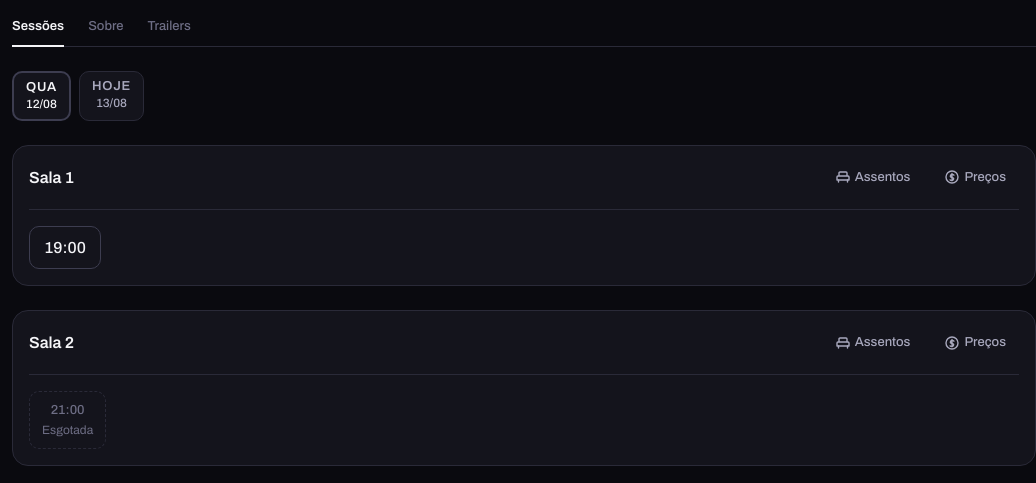
Scenario: seções Sessões, Sobre e Trailers › sem trailer, a seção explica e continua visível
Click the tab "Trailers". click: (169,27)
box: [148,8,191,47]
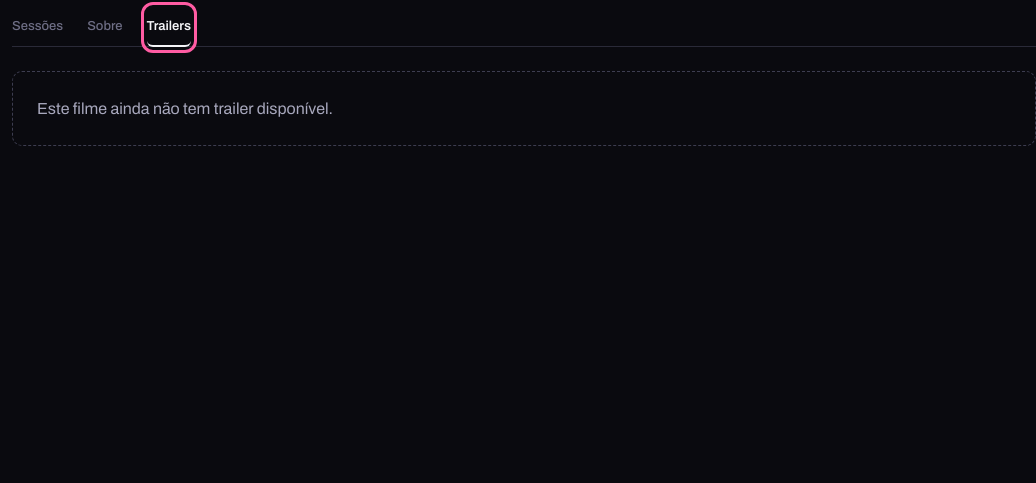
Expected: the text "Este filme ainda não tem trailer disponível." is shown, [37,100,333,117]
